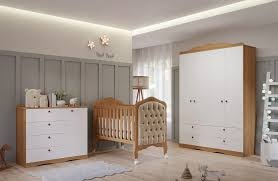crib: (93, 97, 166, 162)
